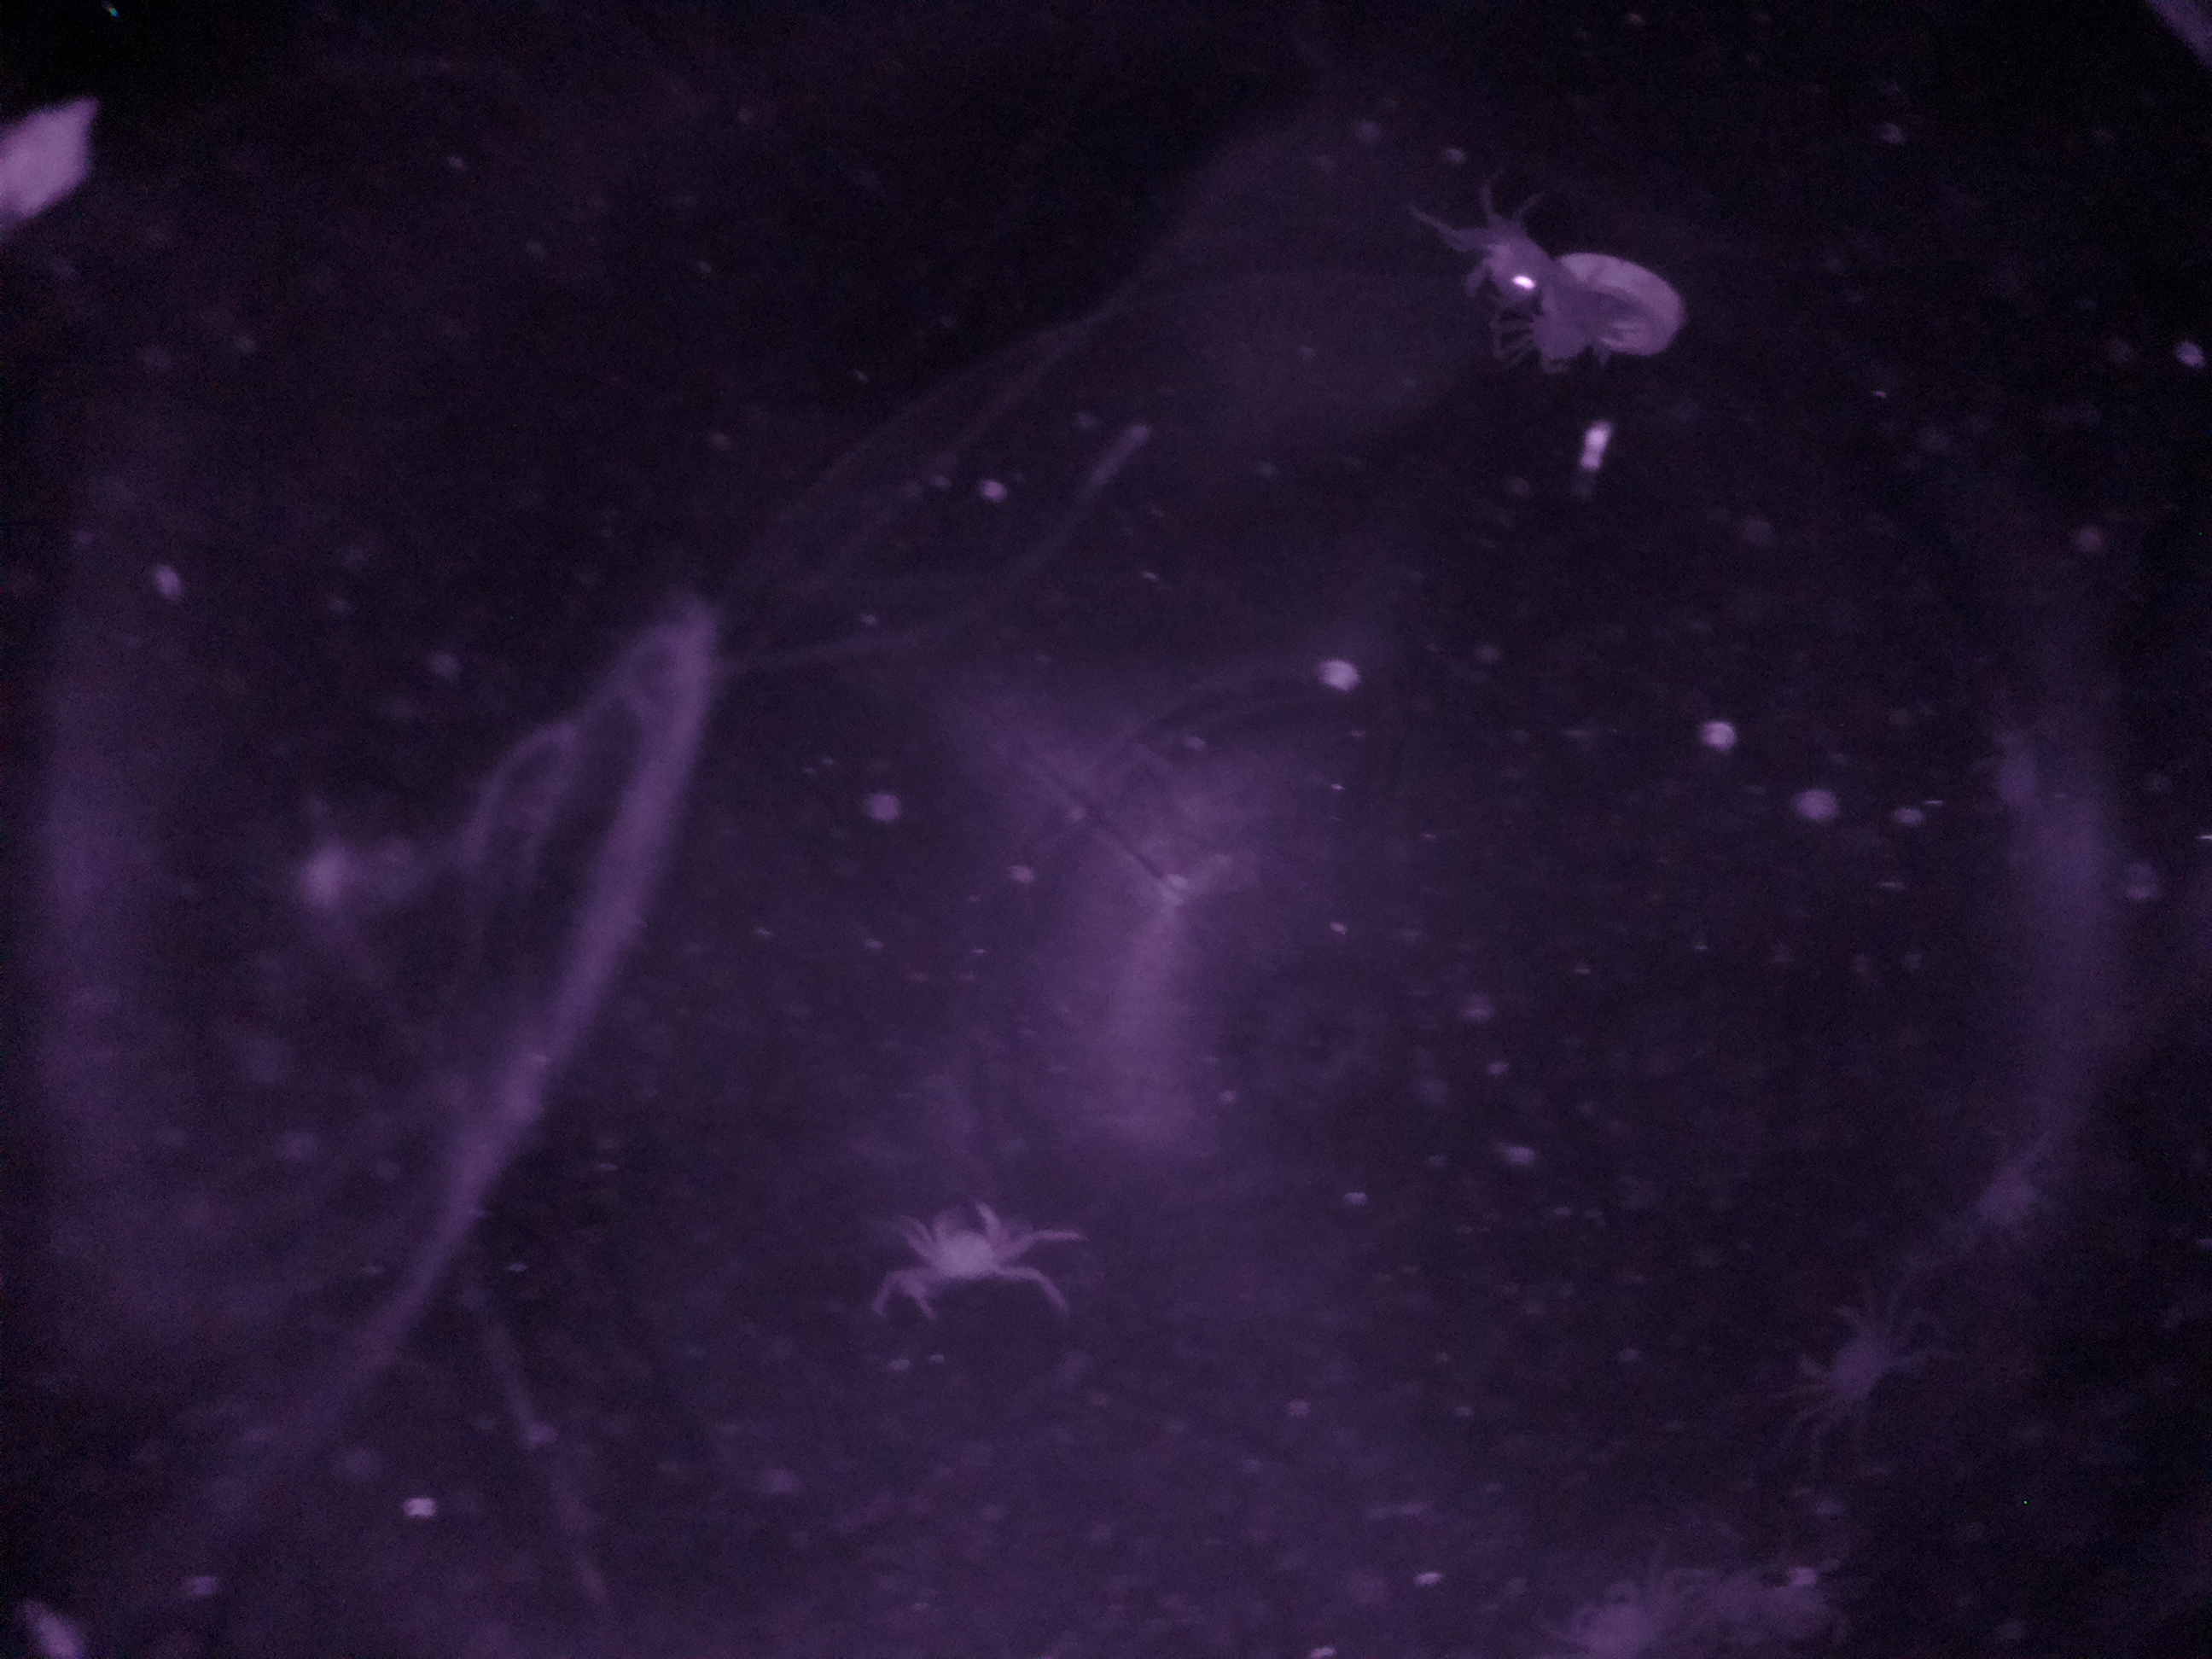Crab: (1775, 1276, 1921, 1438), (1514, 281, 1623, 392)
